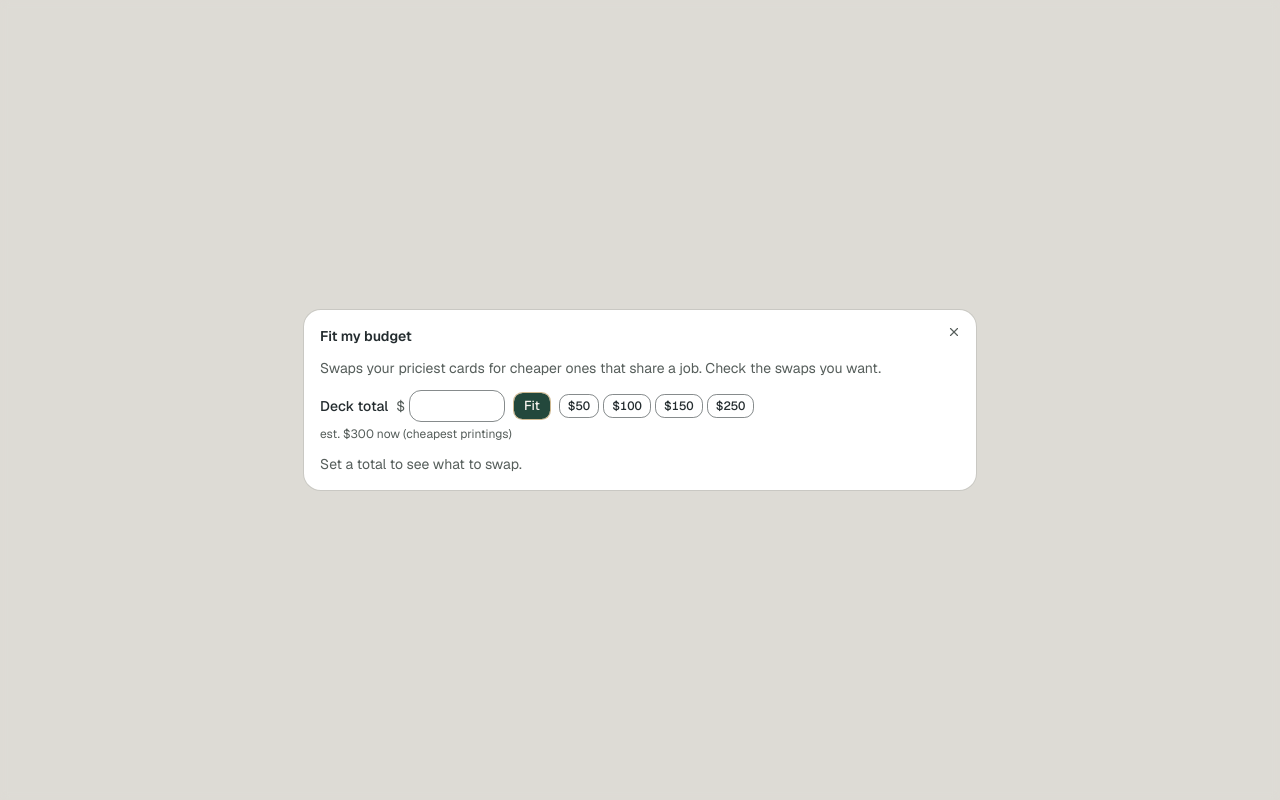
Test: FitSheet — honest outcomes › nothing to swap down: “No suitable alternative under your goals.” — and nothing to apply
Click the button "$150" at (679, 406), box [655, 394, 703, 418]
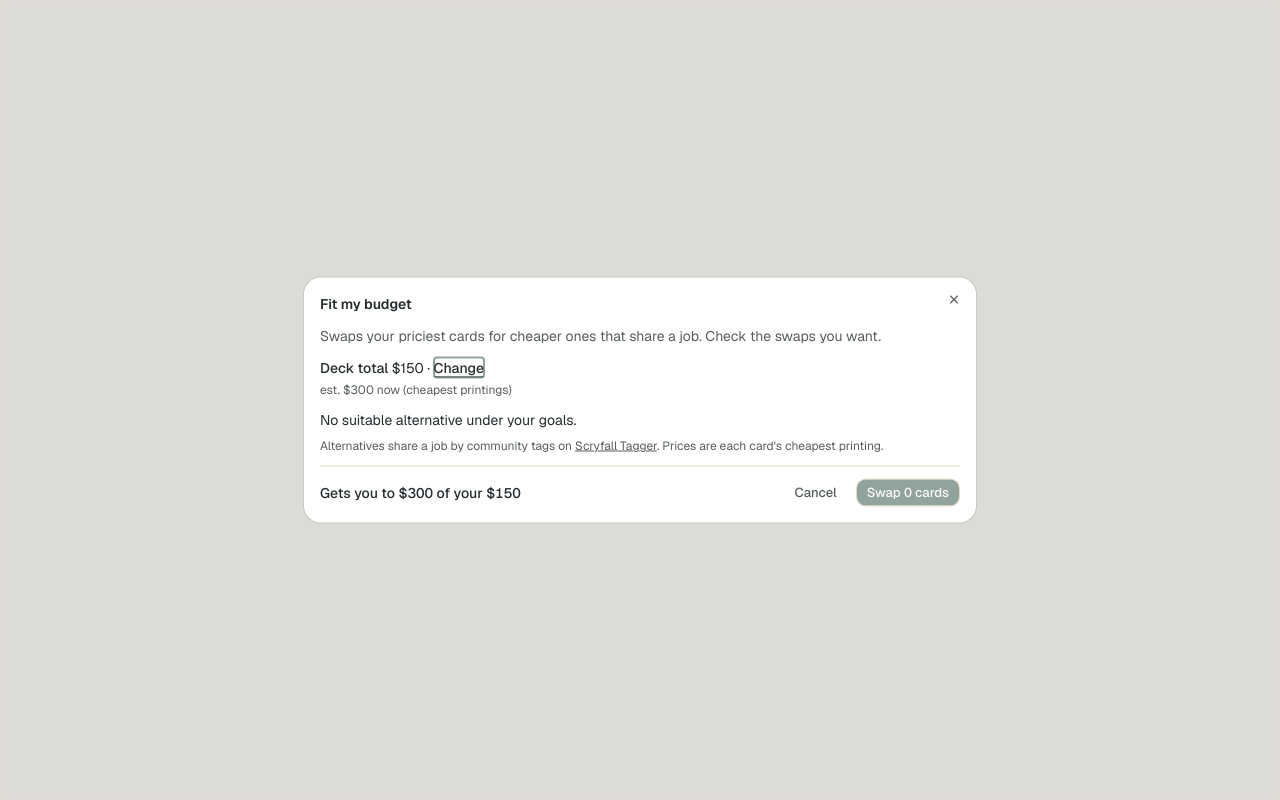
Check: the dialog "Fit my budget" shows "No suitable alternative under your goals.", box [320, 410, 576, 428]
Check: the button "Swap 0 cards" is disabled, box [856, 478, 960, 506]
